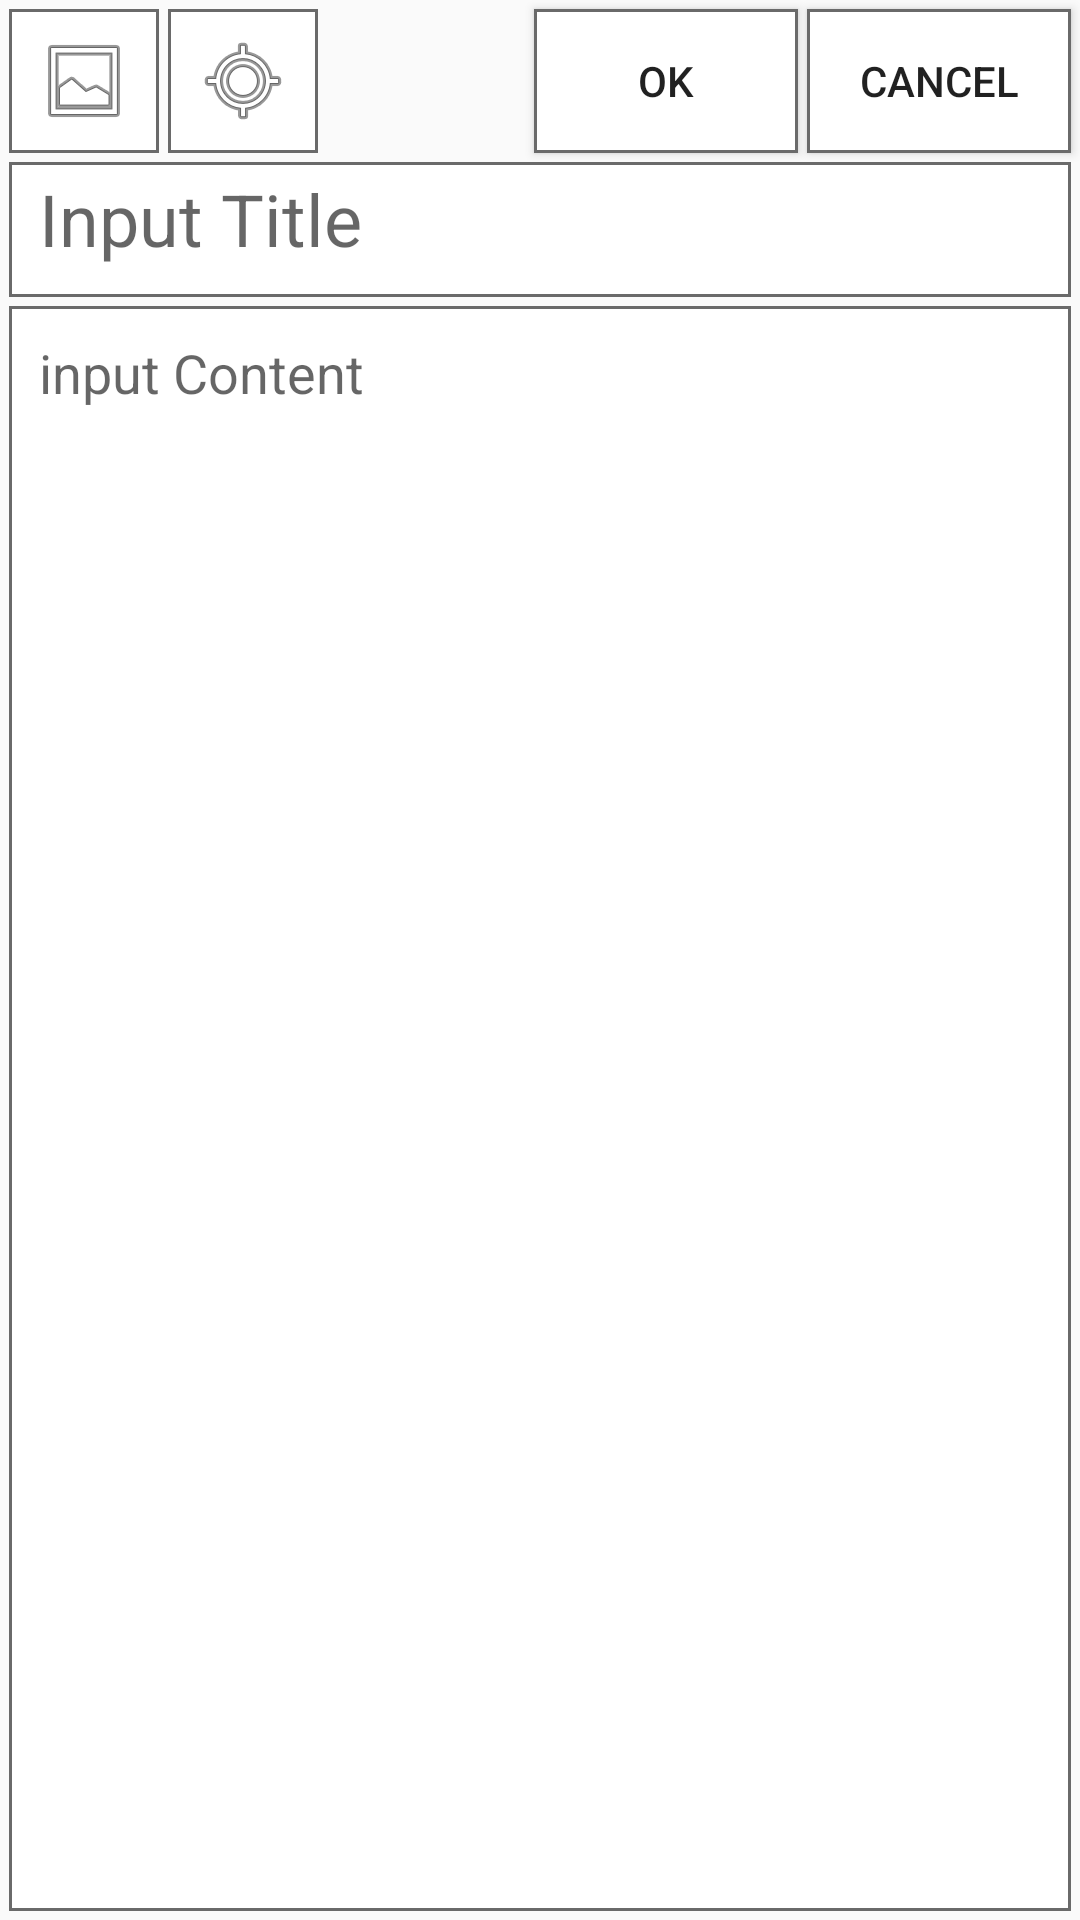

Icon click points for this 1080px x 1920px phone screenshot, format [x,y]:
gallery: [84,81]
mylocation: [243,81]
